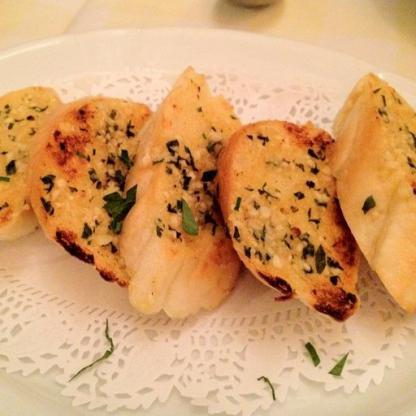toast bread: (120, 68, 248, 318), (219, 115, 368, 325), (33, 96, 155, 292), (334, 73, 415, 316), (0, 83, 61, 240)
